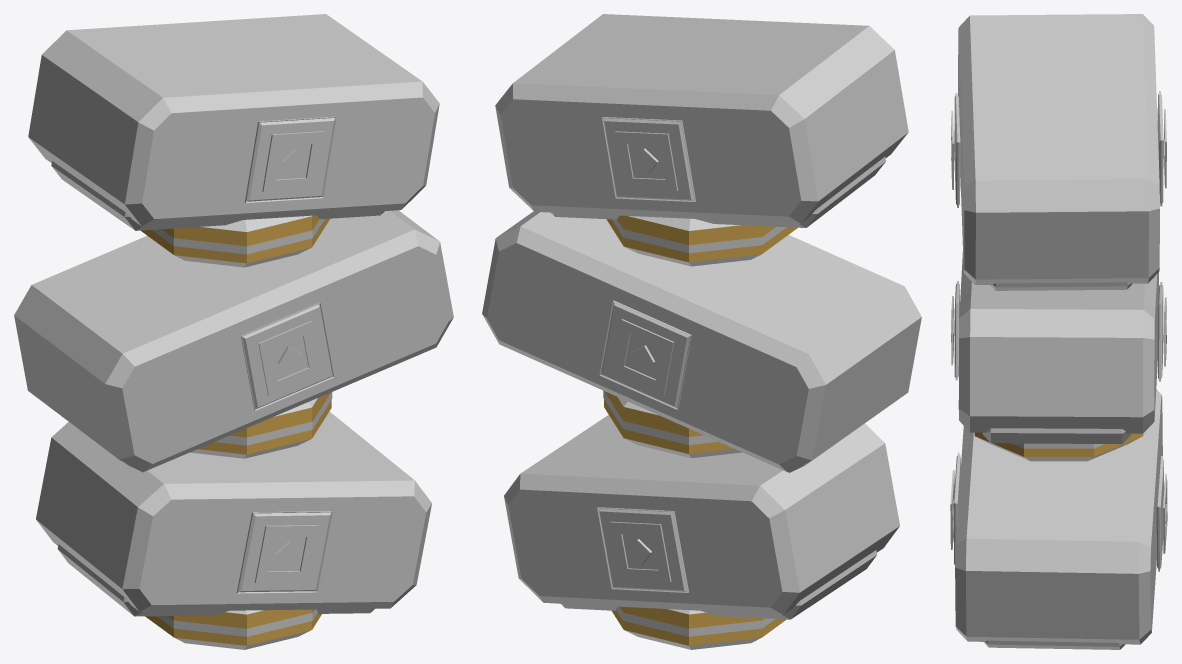
Rendered from wand_motion_27.obj.
The picture shows the model from 3 angles, left to right: view 1: azimuth 30°, elevation 25°; view 2: azimuth 150°, elevation 25°; view 3: azimuth 270°, elevation 25°; orthographic projection. The views are drawn at different scales.
Parts seen in each view (by area): view 1: chamfered_seal_tablet_1, chamfered_seal_tablet_2, chamfered_seal_tablet_0, tablet_spacer_2, inset_rune_socket_1, inset_rune_socket_3, inset_rune_socket_5, tablet_spacer_0, tablet_spacer_1, seal_shadow_base_2, seal_shadow_base_0, tablet_spacer_dark_seam_2 (+2 smaller); view 2: chamfered_seal_tablet_2, chamfered_seal_tablet_1, chamfered_seal_tablet_0, tablet_spacer_2, inset_rune_socket_4, inset_rune_socket_2, inset_rune_socket_0, tablet_spacer_0, tablet_spacer_1, seal_shadow_base_0, seal_shadow_base_2, tablet_spacer_dark_seam_2 (+2 smaller); view 3: chamfered_seal_tablet_2, chamfered_seal_tablet_0, chamfered_seal_tablet_1, seal_shadow_base_1, tablet_spacer_1, seal_shadow_base_2, seal_shadow_base_0, inset_rune_socket_0, inset_rune_socket_5, inset_rune_socket_4, inset_rune_socket_2, inset_rune_socket_3 (+2 smaller).
Part boxes in pixels (left/top/right/bottom): chamfered_seal_tablet_1: left=14, top=210, right=453, bottom=471; chamfered_seal_tablet_2: left=28, top=14, right=439, bottom=226; chamfered_seal_tablet_0: left=36, top=411, right=431, bottom=611; tablet_spacer_2: left=141, top=215, right=329, bottom=267; inset_rune_socket_1: left=236, top=511, right=332, bottom=593; inset_rune_socket_3: left=240, top=302, right=333, bottom=410; inset_rune_socket_5: left=245, top=116, right=336, bottom=202; tablet_spacer_0: left=145, top=609, right=321, bottom=649; tablet_spacer_1: left=190, top=392, right=331, bottom=458; seal_shadow_base_2: left=51, top=161, right=384, bottom=230; seal_shadow_base_0: left=57, top=544, right=374, bottom=616; tablet_spacer_dark_seam_2: left=152, top=219, right=324, bottom=254; chamfered_seal_tablet_2: left=495, top=14, right=908, bottom=223; chamfered_seal_tablet_1: left=482, top=211, right=921, bottom=472; chamfered_seal_tablet_0: left=504, top=415, right=899, bottom=614; tablet_spacer_2: left=606, top=215, right=797, bottom=266; inset_rune_socket_4: left=602, top=117, right=695, bottom=201; inset_rune_socket_2: left=599, top=300, right=691, bottom=409; inset_rune_socket_0: left=597, top=507, right=688, bottom=592; tablet_spacer_0: left=612, top=606, right=785, bottom=649; tablet_spacer_1: left=604, top=391, right=742, bottom=458; seal_shadow_base_0: left=560, top=550, right=876, bottom=619; seal_shadow_base_2: left=551, top=157, right=885, bottom=227; tablet_spacer_dark_seam_2: left=612, top=219, right=786, bottom=253; chamfered_seal_tablet_2: left=958, top=14, right=1159, bottom=284; chamfered_seal_tablet_0: left=955, top=389, right=1162, bottom=644; chamfered_seal_tablet_1: left=958, top=252, right=1158, bottom=433; seal_shadow_base_1: left=982, top=428, right=1130, bottom=443; tablet_spacer_1: left=974, top=432, right=1143, bottom=461; seal_shadow_base_2: left=990, top=282, right=1132, bottom=290; seal_shadow_base_0: left=984, top=640, right=1125, bottom=649; inset_rune_socket_0: left=1156, top=456, right=1164, bottom=571; inset_rune_socket_5: left=954, top=93, right=960, bottom=207; inset_rune_socket_4: left=1157, top=91, right=1163, bottom=206; inset_rune_socket_2: left=1158, top=282, right=1163, bottom=381; inset_rune_socket_3: left=954, top=281, right=959, bottom=380.
Size of the model in its own units: 0.1965 by 0.3142 by 0.1145.
